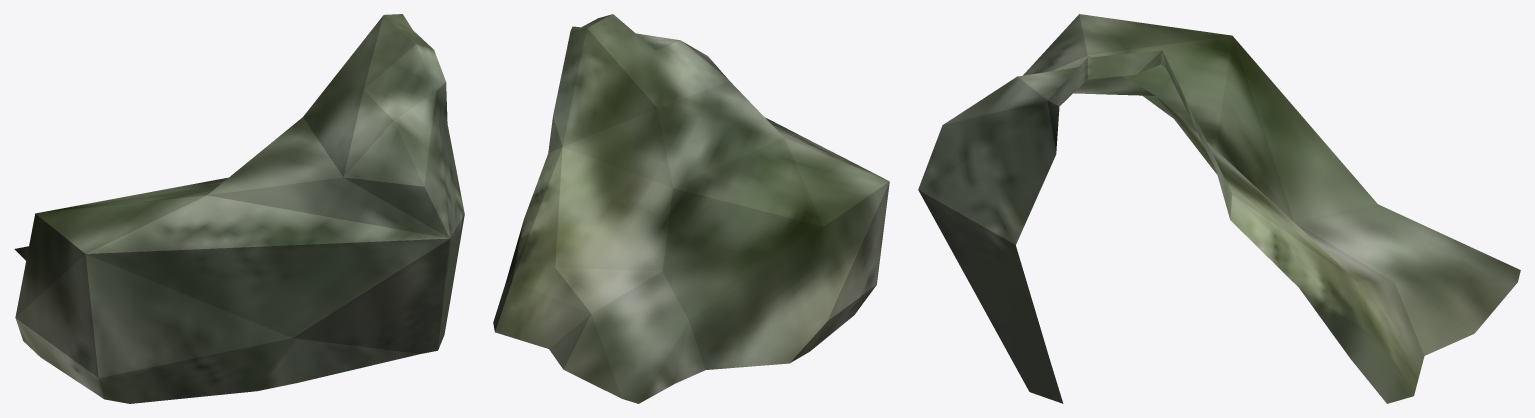
3 renders of one model, left to right at view 1: azimuth 30°, elevation 25°; view 2: azimuth 150°, elevation 25°; view 3: azimuth 270°, elevation 25°, orthographic. The views are drawn at different scales.
Size of the model in its own units: 0.5123 by 0.4083 by 0.6498.
1 material, 1 textured.
